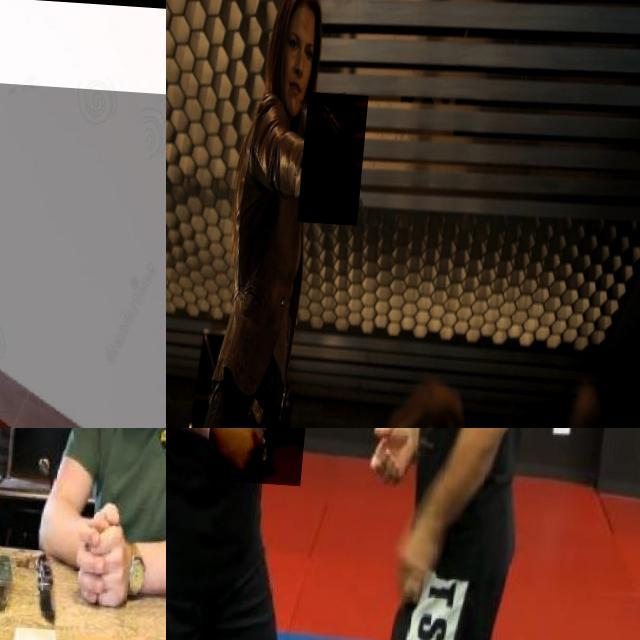-: (0, 65, 166, 428), (0, 430, 68, 535), (213, 428, 316, 483)
gun-knife-thesis - v11 Yolov5 augmented: (303, 88, 372, 221)
